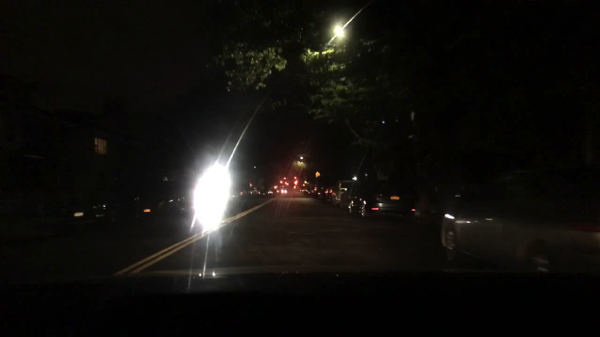car: (440, 166, 600, 279), (59, 177, 142, 238), (1, 157, 67, 217), (361, 181, 415, 221), (145, 181, 195, 214), (409, 185, 442, 229), (337, 181, 366, 215), (331, 179, 352, 206), (324, 185, 337, 204), (308, 184, 319, 198), (316, 185, 325, 200), (303, 183, 311, 196), (249, 188, 260, 196), (239, 190, 249, 198), (228, 191, 239, 198), (278, 186, 287, 193), (299, 184, 304, 194), (264, 190, 272, 196), (272, 187, 278, 194)
traffic sign: (315, 172, 320, 178)
